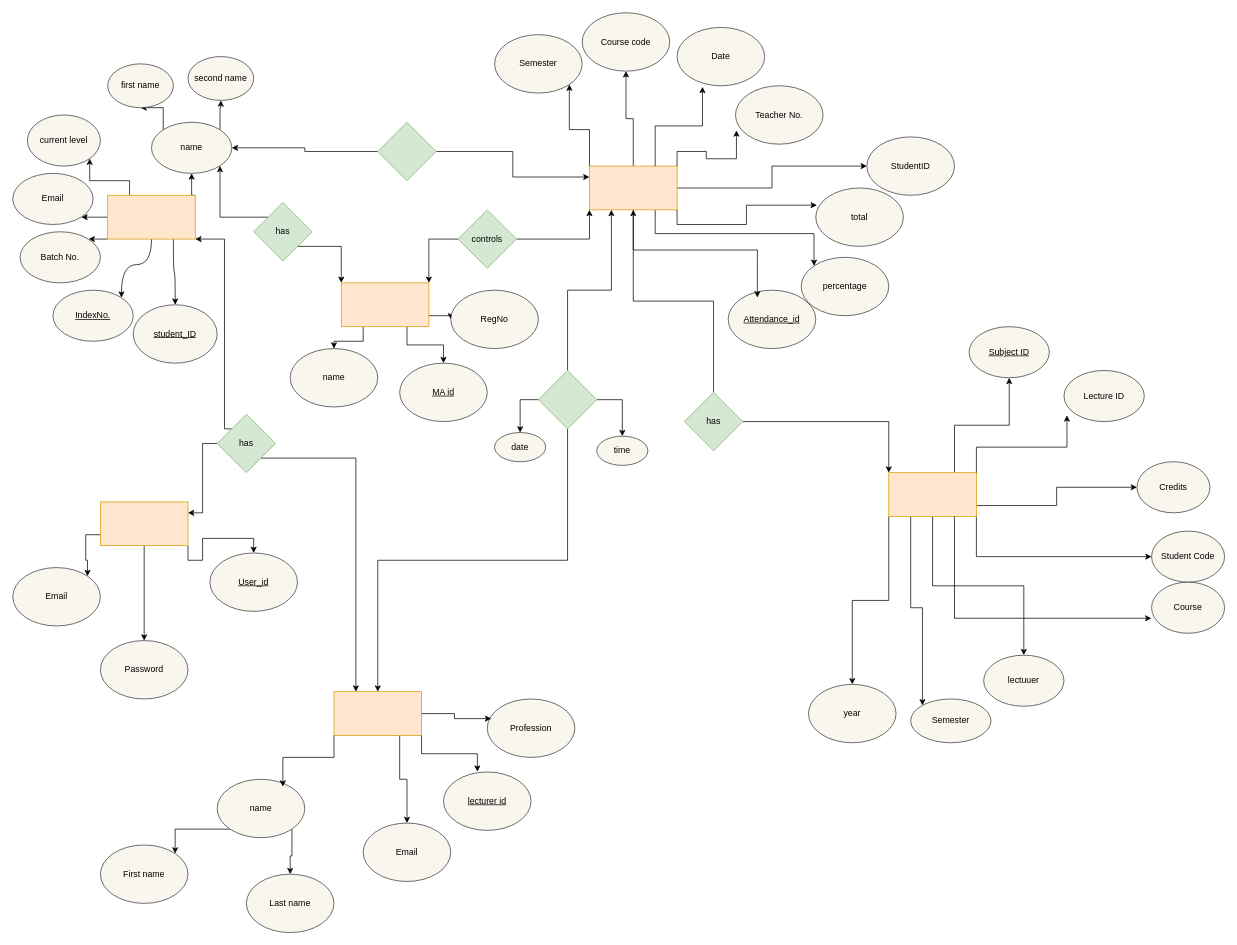
Image size: 1237x945. Some labels were removed from this diagram. Each missing label, with the centre of its shape:
Attendance: point 633,187
belongs: point 406,151
Lecturer: point 377,713
MA: point 385,304
students: point 151,217
Subject: point 932,494
take: point 567,399
user: point 144,523
